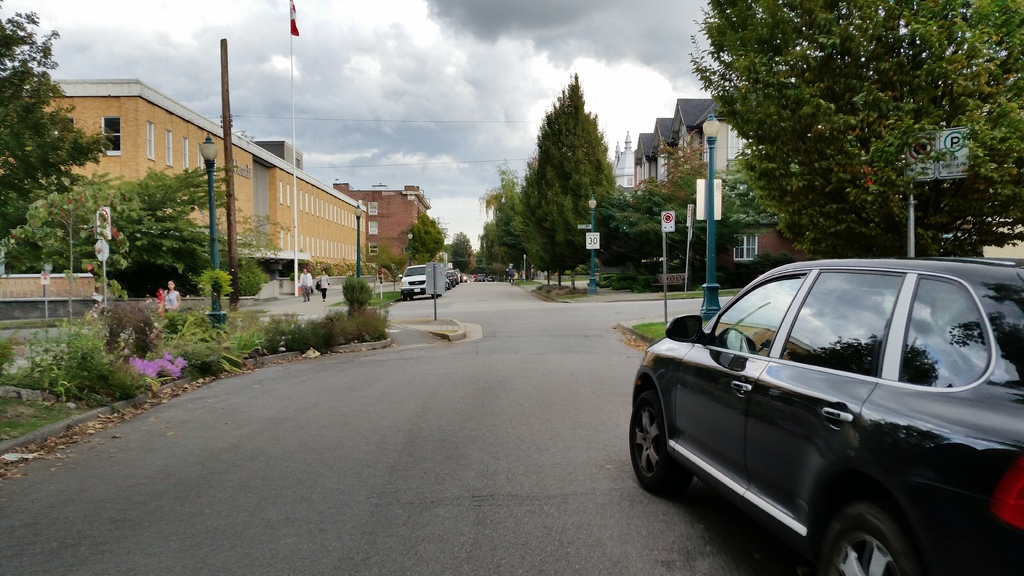Car: (629, 259, 1024, 569), (401, 259, 430, 300)
